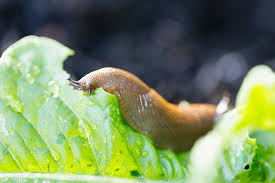slug: (71, 63, 221, 148)
